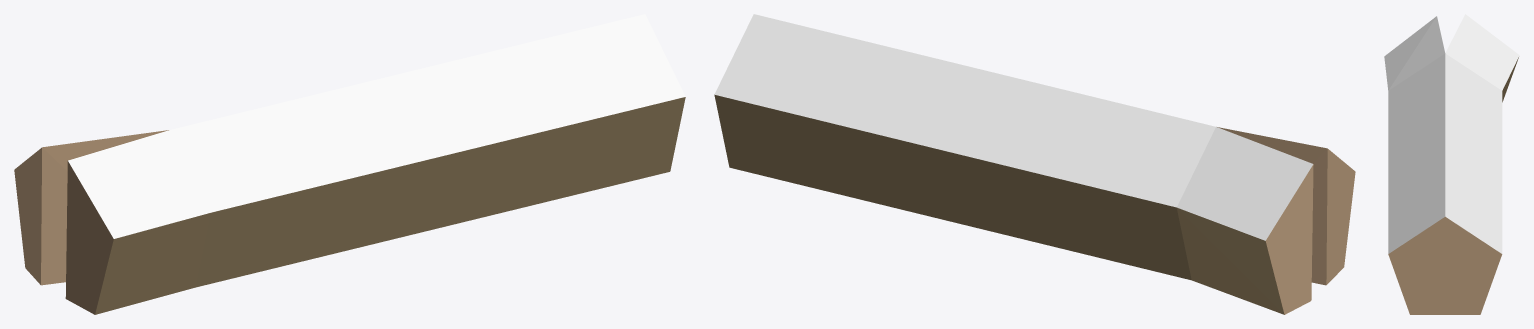
File: Acacia_Firewood_Snow_03_LOD.fbx
3 views of the same model, side by side, from view 1: azimuth 30°, elevation 25°; view 2: azimuth 150°, elevation 25°; view 3: azimuth 270°, elevation 25° (orthographic). The views are drawn at different scales.
Parts seen in each view (by area): view 1: Acacia_Firewood_Snow_03_LOD0; view 2: Acacia_Firewood_Snow_03_LOD0; view 3: Acacia_Firewood_Snow_03_LOD0.
Part boxes in pixels (left/top/right/bottom): Acacia_Firewood_Snow_03_LOD0: left=14, top=14, right=685, bottom=314; Acacia_Firewood_Snow_03_LOD0: left=714, top=14, right=1355, bottom=314; Acacia_Firewood_Snow_03_LOD0: left=1384, top=14, right=1519, bottom=314.
Size of what is drawn, in the model's own units: 55.51 by 12.56 by 15.68.
